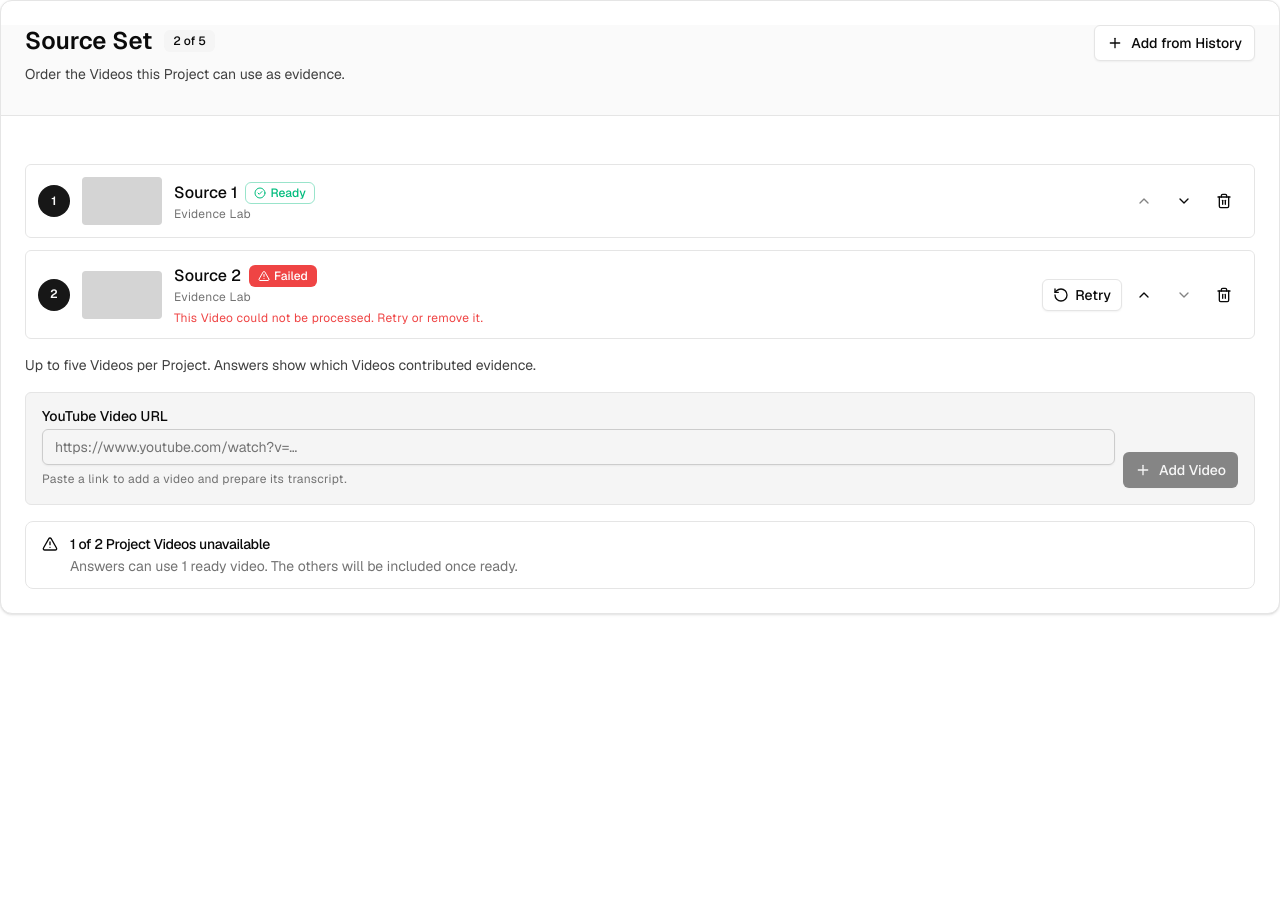
it: ProjectSourceSet › removes a failed pasted source while preserving every other source
Click the button named "Remove Source 2 from Source Set": [1224, 295] box [1206,277,1242,313]
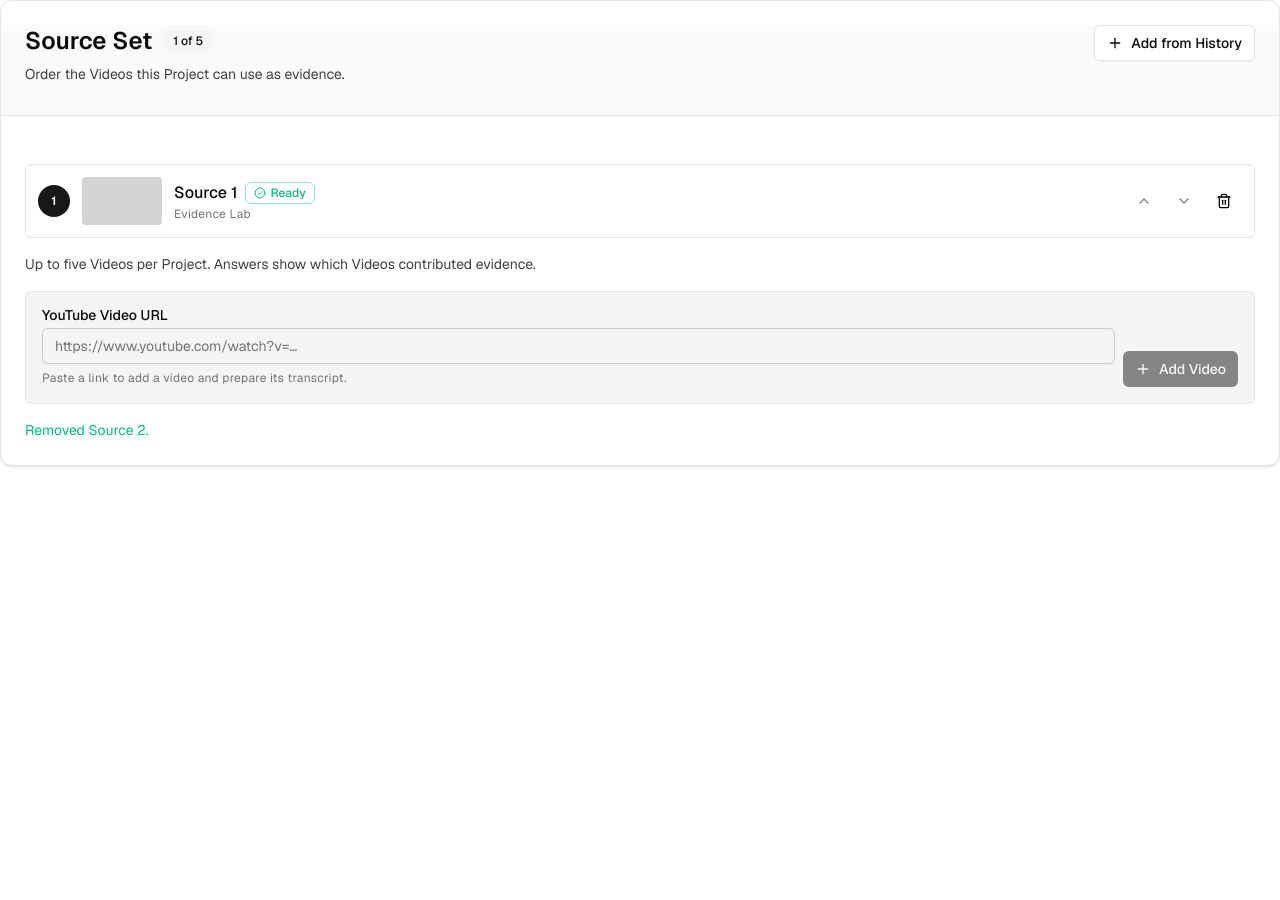
expect the link "Source 1" is shown: met, box [174,180,237,206]
expect the text "Removed Source 2." is shown: met, box [25,421,149,439]
